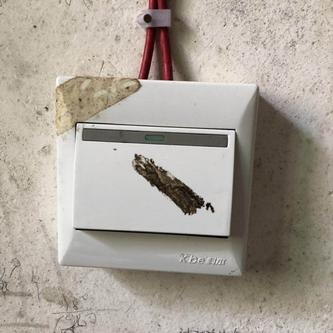switch: (70, 116, 238, 246)
